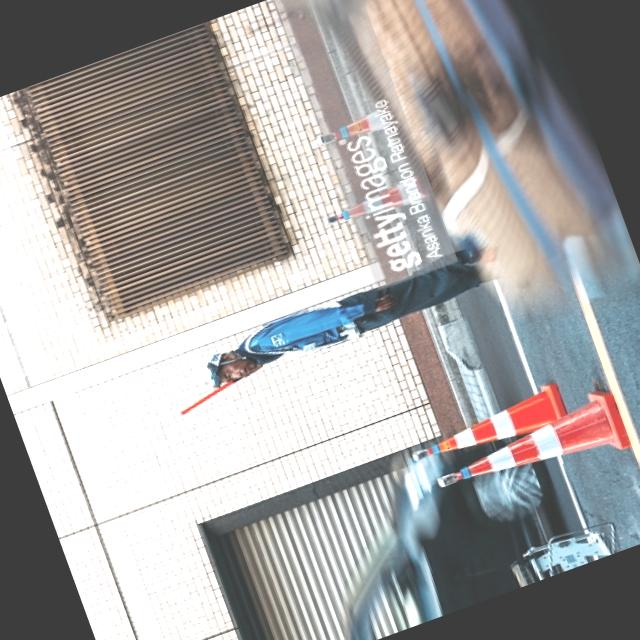cone: (433, 395, 627, 501), (413, 381, 561, 465)
